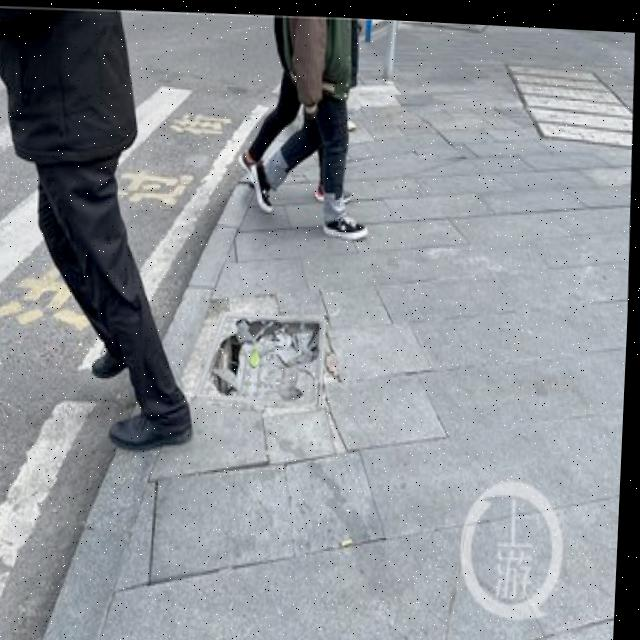manhole: (192, 292, 339, 414)
